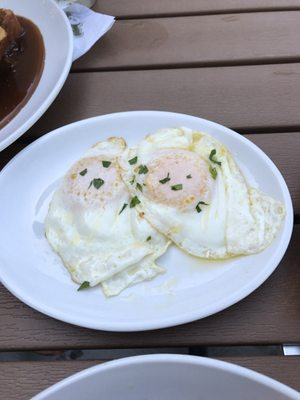sushi: (19, 353, 298, 400), (0, 0, 74, 154)
